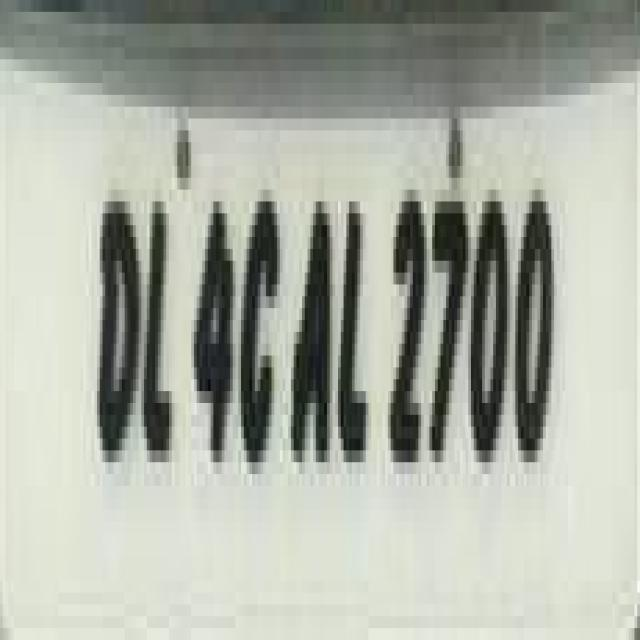license_plate: (25, 48, 640, 628)
